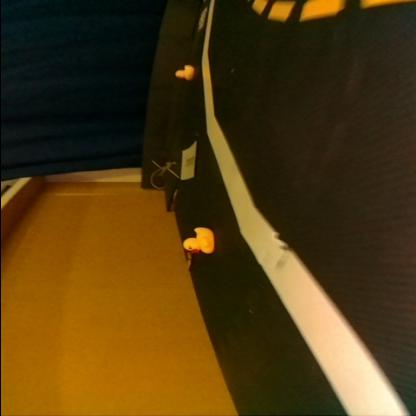Duckie: (182, 227, 212, 253), (174, 64, 192, 78)
